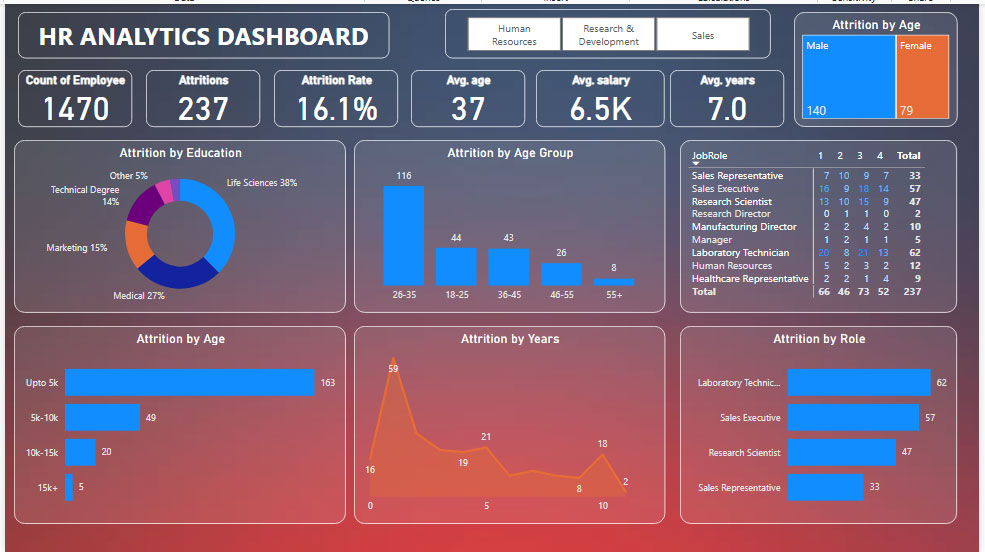

This screenshot's page, from the dashboard's own definition file:
{"tool":"powerbi","page":{"name":"Page 1","canvas":[1280,720],"ordinal":0},"visuals":[{"type":"card","title":"Count of Employee","fields":{"Values":["CountNonNull(HR_Analytics.EmpID)"]},"box":[16.6,87.3,149.6,74.8],"z":0},{"type":"card","title":"Attritions","fields":{"Values":["Sum(HR_Analytics.AttritionCount)"]},"box":[185.6,87.3,149.6,74.8],"z":1000},{"type":"card","title":"Attrition Rate","fields":{"Values":["HR_Analytics.AttritionRate"]},"box":[353.2,87.3,163.5,74.8],"z":2000},{"type":"card","title":"Avg. age","fields":{"Values":["Avg(HR_Analytics.Age)"]},"box":[533.3,87.3,149.6,74.8],"z":3000},{"type":"card","title":"Avg. salary","fields":{"Values":["Avg(HR_Analytics.MonthlyIncome)"]},"box":[698.2,87.3,169,74.8],"z":4000},{"type":"card","title":"Avg. years","fields":{"Values":["Avg(HR_Analytics.YearsAtCompany)"]},"box":[874.1,87.3,149.6,74.8],"z":5000},{"type":"donutChart","title":"Attrition by Education","fields":{"Category":["HR_Analytics.EducationField"],"Y":["Sum(HR_Analytics.AttritionCount)"]},"box":[12.5,178.7,436.4,227.2],"z":6000},{"type":"columnChart","title":"Attrition by Age Group","fields":{"Category":["HR_Analytics.AgeGroup"],"Y":["Sum(HR_Analytics.AttritionCount)"]},"box":[458.5,178.7,408.7,227.2],"z":7000},{"type":"pivotTable","fields":{"Rows":["HR_Analytics.JobRole"],"Columns":["HR_Analytics.JobSatisfaction"],"Values":["Sum(HR_Analytics.AttritionCount)"]},"box":[886.6,178.7,364.3,227.2],"z":8000},{"type":"barChart","title":"Attrition by Age","fields":{"Category":["HR_Analytics.SalarySlab"],"Y":["Sum(HR_Analytics.AttritionCount)"]},"box":[12.5,422.5,436.4,260.4],"z":9000},{"type":"barChart","title":"Attrition by Role","fields":{"Category":["HR_Analytics.JobRole"],"Y":["Sum(HR_Analytics.AttritionCount)"]},"box":[886.6,422.5,364.3,260.4],"z":10000},{"type":"areaChart","title":"Attrition by Years","fields":{"Category":["HR_Analytics.YearsAtCompany"],"Y":["Sum(HR_Analytics.AttritionCount)"]},"box":[458.5,422.5,408.7,260.4],"z":11000},{"type":"treemap","title":"Attrition by Age","fields":{"Group":["HR_Analytics.Gender"],"Values":["Sum(HR_Analytics.AttritionCount)"]},"box":[1036.2,11.1,214.7,151],"z":12000},{"type":"slicer","fields":{"Values":["HR_Analytics.Department"]},"box":[577.7,6.9,428.1,65.1],"z":13000},{"type":"textbox","box":[16.6,11.1,487.6,61],"z":14000}]}

Visuals, with their boxes in screenshot pixels (x1, y1, x2, y2), scaled from the page's 1280x720 canvas onto the 985x552 screenshot:
"Count of Employee" card: 13:67:128:124
"Attritions" card: 143:67:258:124
"Attrition Rate" card: 272:67:398:124
"Avg. age" card: 410:67:526:124
"Avg. salary" card: 537:67:667:124
"Avg. years" card: 673:67:788:124
"Attrition by Education" donutChart: 10:137:345:311
"Attrition by Age Group" columnChart: 353:137:667:311
pivotTable - HR_Analytics.JobRole x HR_Analytics.JobSatisfaction: 682:137:963:311
"Attrition by Age" barChart: 10:324:345:524
"Attrition by Role" barChart: 682:324:963:524
"Attrition by Years" areaChart: 353:324:667:524
"Attrition by Age" treemap: 797:9:963:124
slicer - HR_Analytics.Department: 445:5:774:55
textbox: 13:9:388:55
